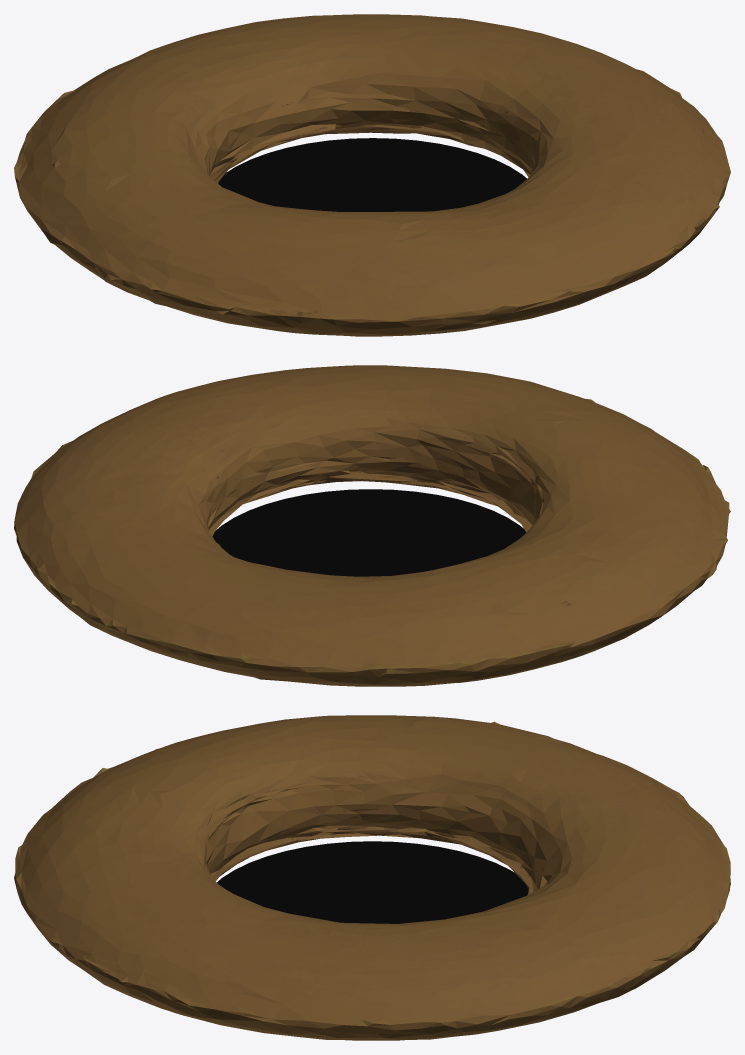
Rendered from rabbit_hole.glb.
3 renders of one model, top to bottom at view 1: azimuth 30°, elevation 25°; view 2: azimuth 150°, elevation 25°; view 3: azimuth 270°, elevation 25°, orthographic.
Parts seen in each view (by area): view 1: world; view 2: world; view 3: world.
Boxes of the visible parts, bbox=[...] form: world: bbox=[14, 14, 730, 336]; world: bbox=[14, 365, 730, 686]; world: bbox=[14, 715, 730, 1040].
Size of the model in its own units: 0.9455 by 0.132 by 0.9464.
Materials: 1 (1 with a texture image).
